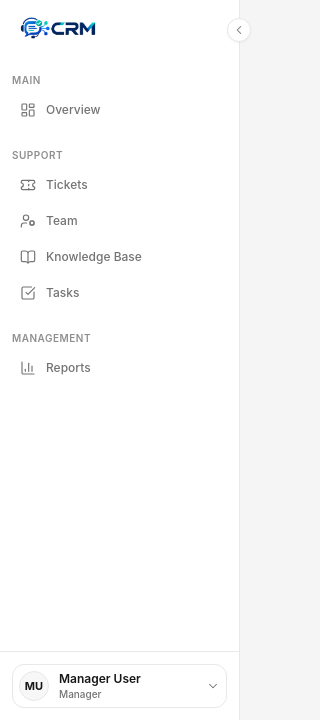
it: Sidebar component › shows My Profile for MANAGER and navigates to the shared internal route
What coordinates should you click on to do the following:
click the button "MU Manager User manager"
I would click on:
 (120, 686)
Its box is [12,664,227,708].
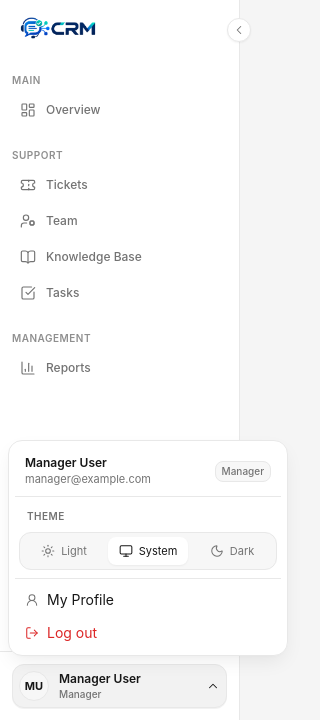
What coordinates should you click on to do the following:
click the menu item "My Profile"
I would click on:
 (81, 600)
Its box is [15,583,281,616].
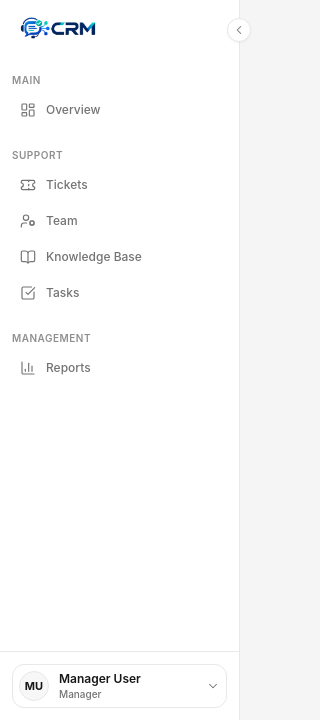
Expected: the menu item "My Profile" is gone
